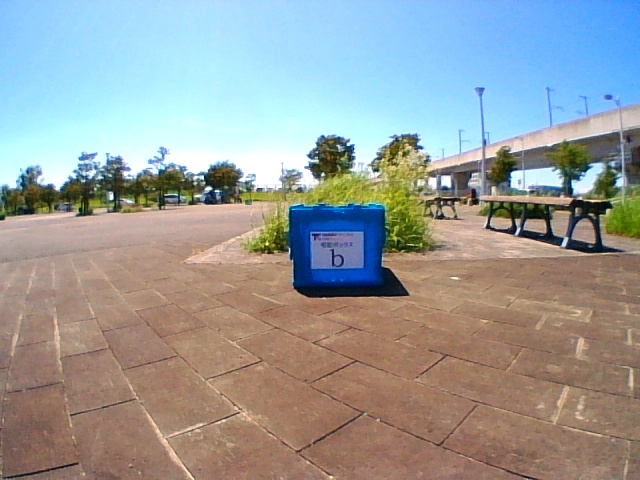blue_box: (292, 205, 384, 282)
tag_b: (310, 231, 365, 268)
